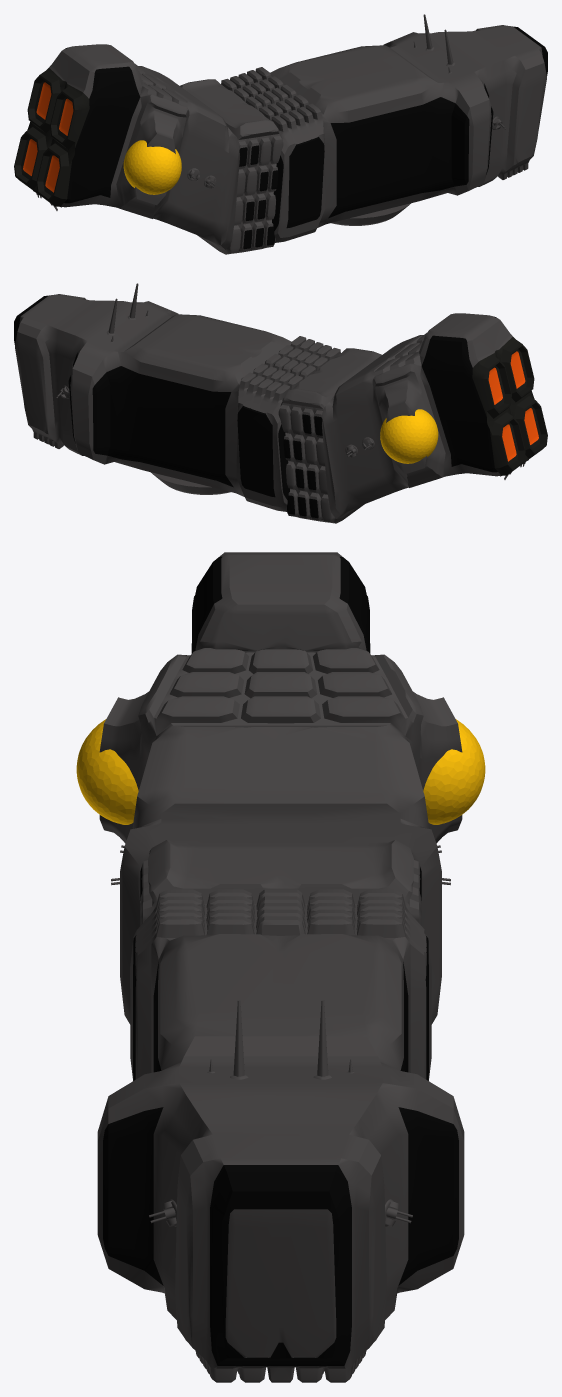
The model's file is SpaceShip01.obj.
3 renders of one model, top to bottom at view 1: azimuth 30°, elevation 25°; view 2: azimuth 150°, elevation 25°; view 3: azimuth 270°, elevation 25°, orthographic. The views are drawn at different scales.
Parts seen in each view (by area): view 1: Spaceship; view 2: Spaceship; view 3: Spaceship.
Part boxes in pixels (bbox=[...]): Spaceship: bbox=[14, 14, 547, 254]; Spaceship: bbox=[14, 283, 547, 523]; Spaceship: bbox=[76, 552, 485, 1382].
Bounding box in the file's own units: 8.45 × 3.52 × 2.97.
